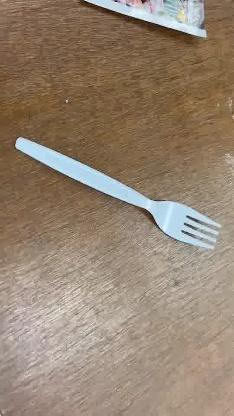Others: (14, 136, 222, 250)
